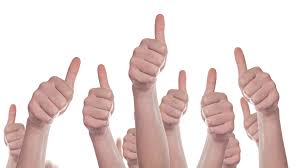thumbs_up: (20, 54, 84, 157), (20, 49, 78, 157), (20, 54, 79, 157), (223, 33, 286, 129), (227, 46, 286, 139), (123, 5, 168, 114), (84, 59, 116, 156)
